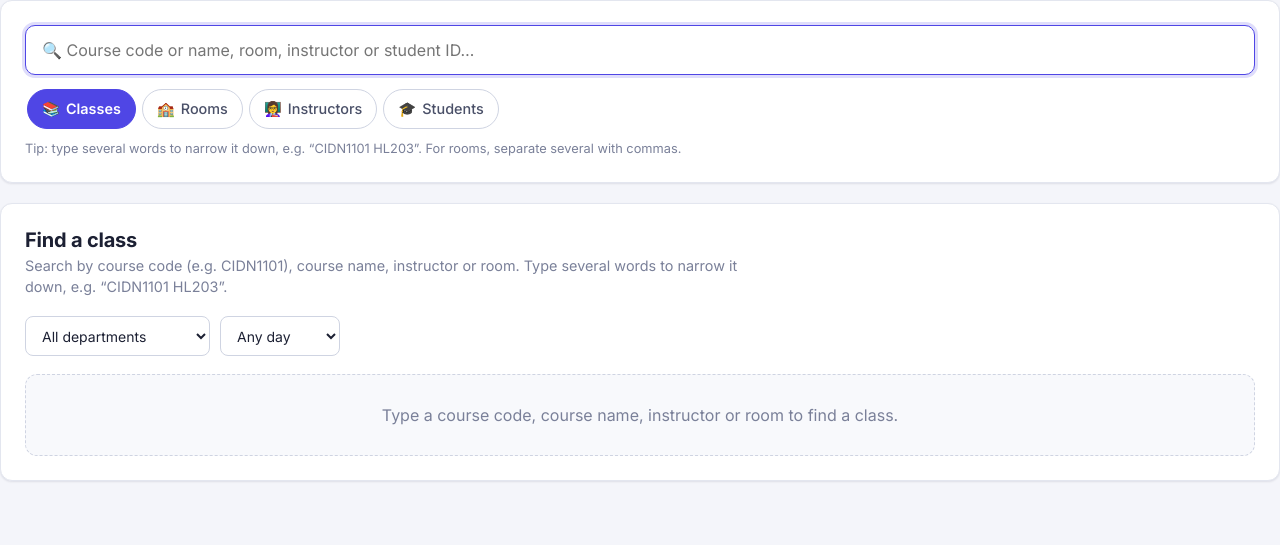
Test: SearchPage › counts matches in every kind of result from one box
In the search field named "Search": (640, 50) [25,25,1255,75], type "HL203"
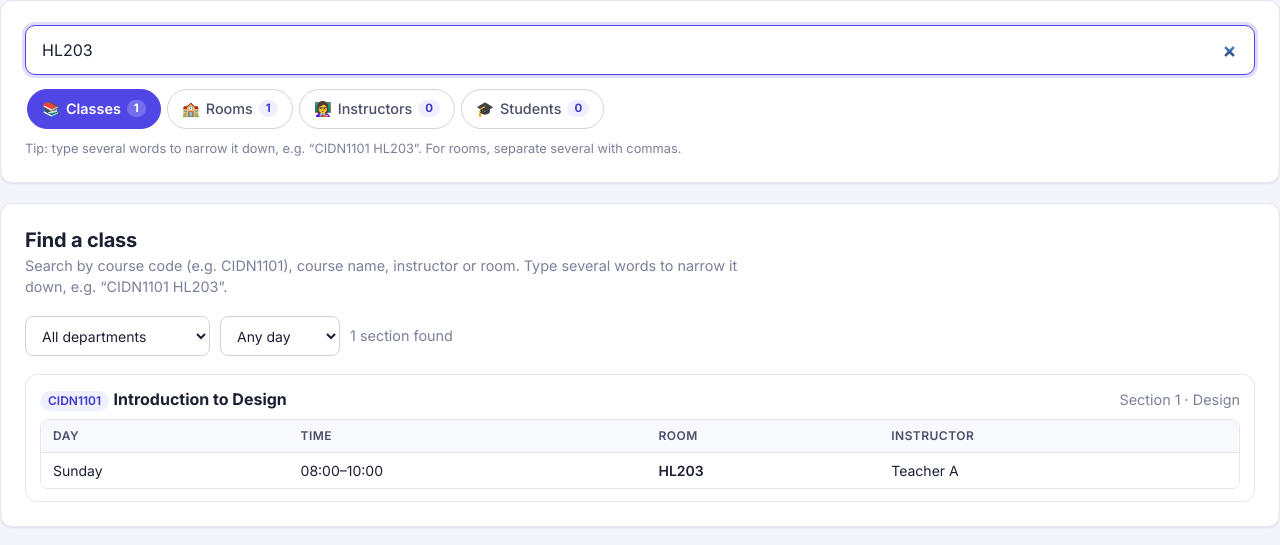
Now the tab with class "subnav-item" reads "📚 Classes 1", box [27,89,161,129]
Now the text "1 section found" is shown, box [350,325,453,347]
